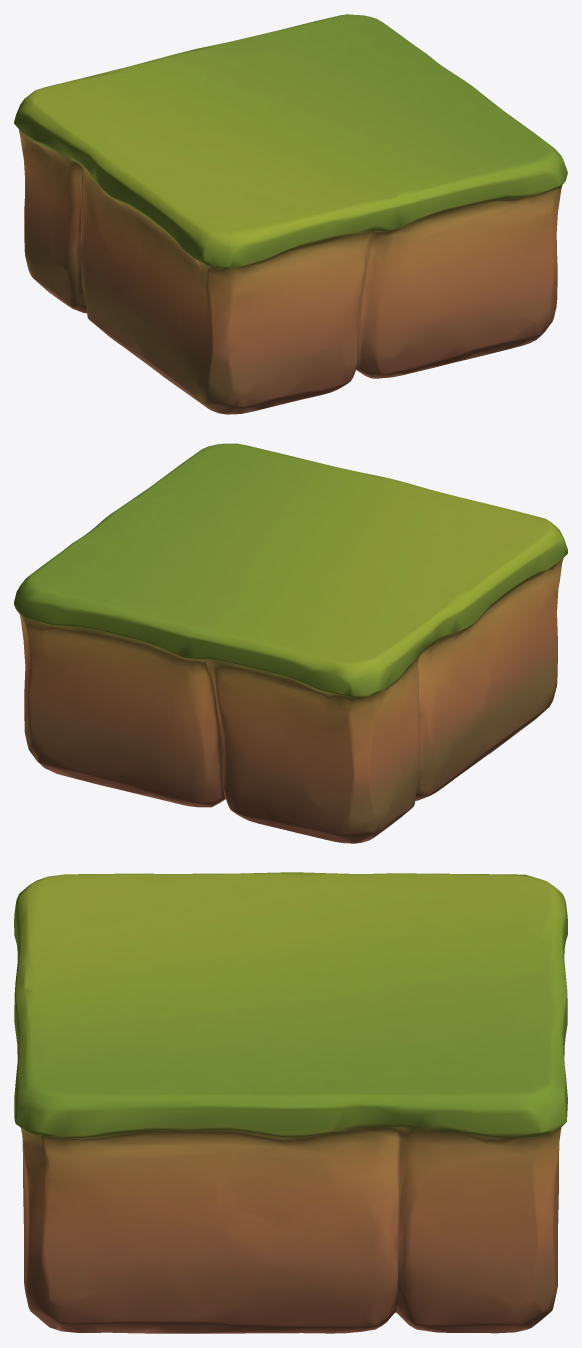
The model's file is haupt boden .glb.
3 views of the same model, one above another, from view 1: azimuth 30°, elevation 25°; view 2: azimuth 150°, elevation 25°; view 3: azimuth 270°, elevation 25° (orthographic). The views are drawn at different scales.
Visible parts, largest first — view 1: tripo_node_4a762160-86d2-4d1f-81a8-eebe3f783239; view 2: tripo_node_4a762160-86d2-4d1f-81a8-eebe3f783239; view 3: tripo_node_4a762160-86d2-4d1f-81a8-eebe3f783239.
Boxes of the visible parts, x1,y1,x2,y2 form: tripo_node_4a762160-86d2-4d1f-81a8-eebe3f783239: [14, 14, 567, 414]; tripo_node_4a762160-86d2-4d1f-81a8-eebe3f783239: [14, 443, 567, 843]; tripo_node_4a762160-86d2-4d1f-81a8-eebe3f783239: [14, 872, 567, 1333].
Size of the model in its own units: 1 by 0.4874 by 1.
1 material, 1 textured.
